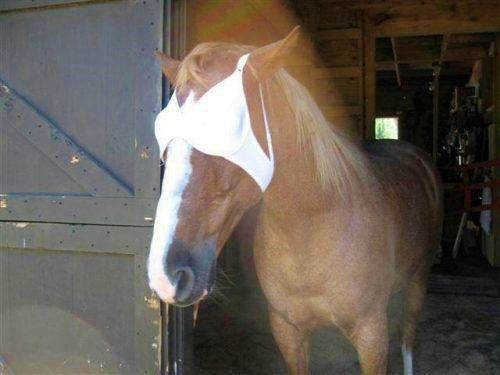Horse: (128, 33, 458, 368)
